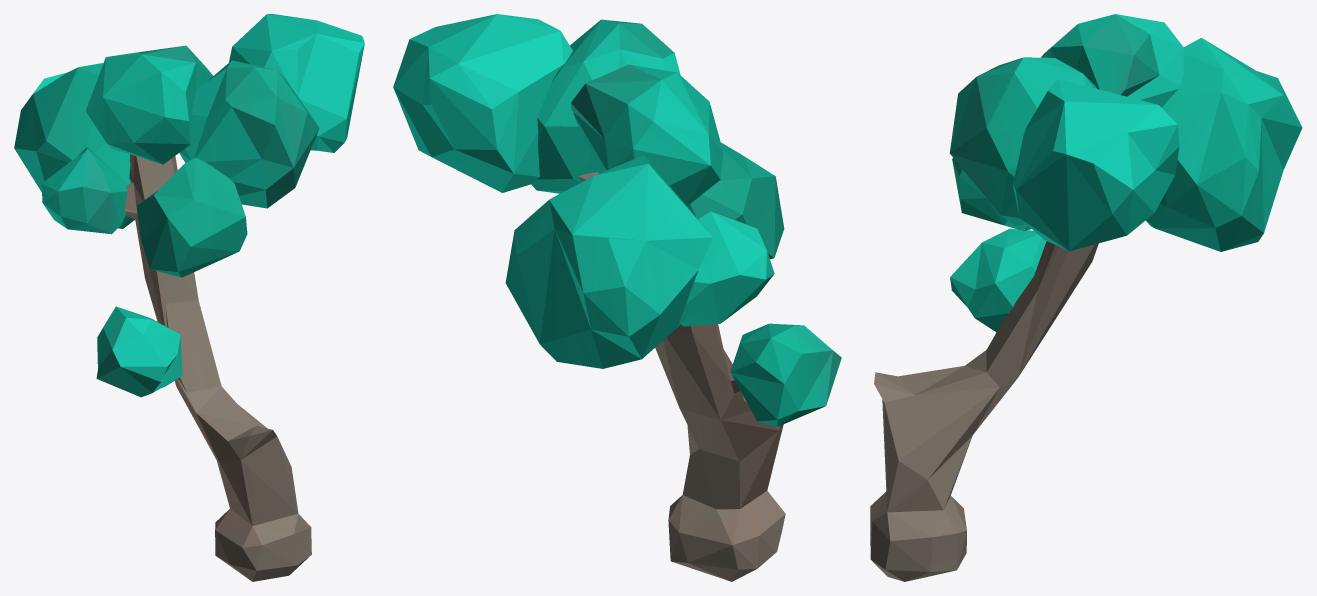
Rendered from Tree1.fbx.
3 renders of one model, left to right at view 1: azimuth 30°, elevation 25°; view 2: azimuth 150°, elevation 25°; view 3: azimuth 270°, elevation 25°, orthographic. The views are drawn at different scales.
Visible parts, largest first — view 1: Icosphere.019; view 2: Icosphere.019; view 3: Icosphere.019.
Boxes of the visible parts, left/top/right/bottom form: Icosphere.019: left=14, top=14, right=364, bottom=581; Icosphere.019: left=393, top=14, right=841, bottom=581; Icosphere.019: left=870, top=14, right=1302, bottom=581.
Size of the model in its own units: 316 by 461 by 337.
Materials: 1 (1 with a texture image).
